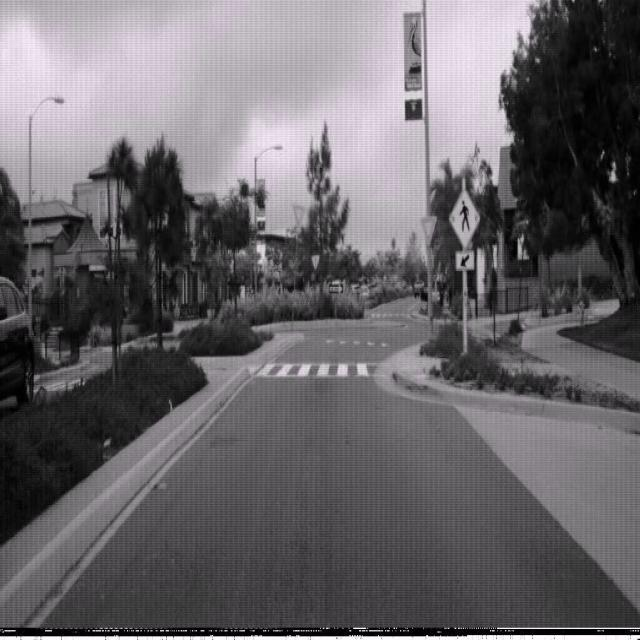pedestrianCrossing: (448, 186, 480, 250)
yield: (420, 215, 437, 245), (291, 202, 306, 228)
